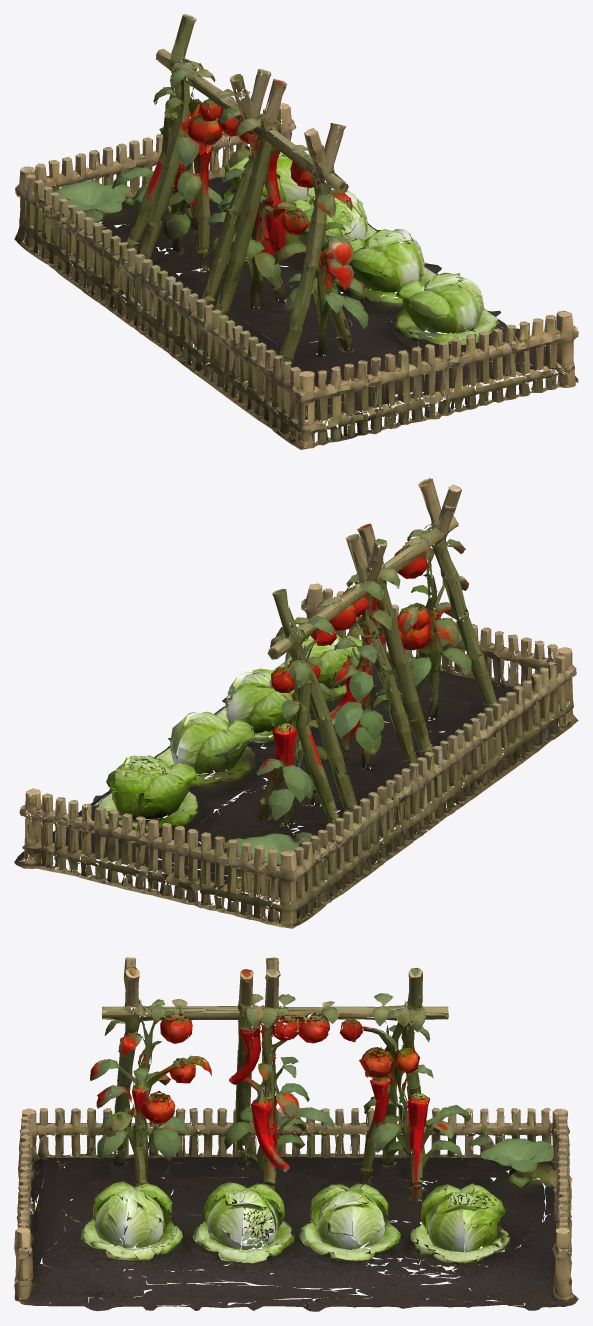
Rendered from veggie.glb.
3 renders of one model, top to bottom at view 1: azimuth 30°, elevation 25°; view 2: azimuth 150°, elevation 25°; view 3: azimuth 270°, elevation 25°, orthographic. The views are drawn at different scales.
Parts seen in each view (by area): view 1: node_0; view 2: node_0; view 3: node_0.
Boxes of the visible parts, box(x1,y1,x2,y2) form: node_0: box(14, 14, 578, 449); node_0: box(14, 478, 578, 928); node_0: box(14, 957, 578, 1311).
Bounding box in the file's own units: 0.562 × 0.4807 × 0.979.
1 material, 1 textured.
